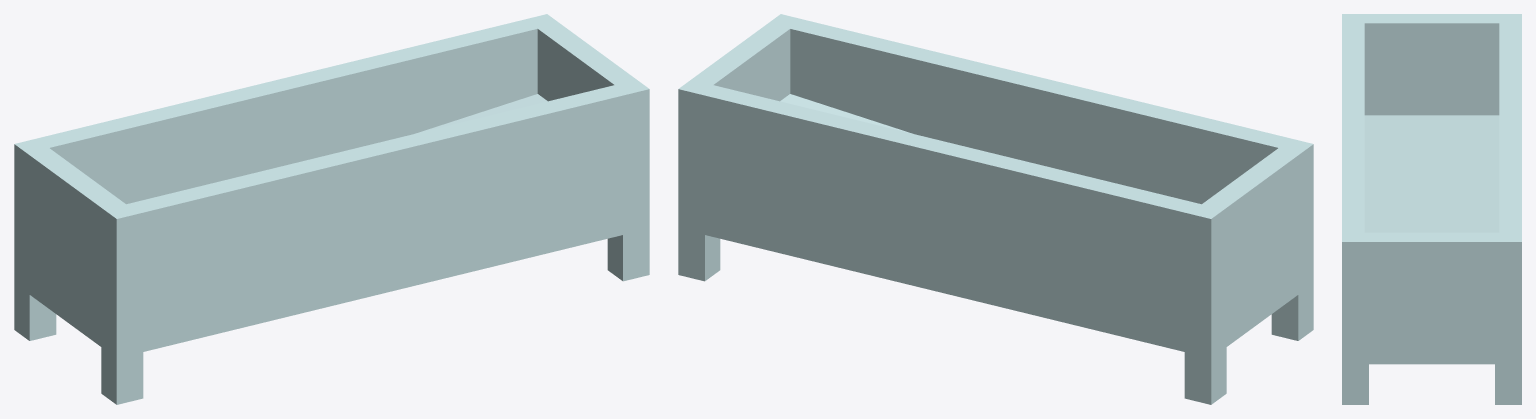
The model's file is tinker.fbx.
The picture shows the model from 3 angles, left to right: view 1: azimuth 30°, elevation 25°; view 2: azimuth 150°, elevation 25°; view 3: azimuth 270°, elevation 25°; orthographic projection. The views are drawn at different scales.
Visible parts, largest first — view 1: imagetostl_mesh0; view 2: imagetostl_mesh0; view 3: imagetostl_mesh0.
Part boxes in pixels (box(x1,y1,x2,y2)): imagetostl_mesh0: box(14, 14, 649, 404); imagetostl_mesh0: box(678, 14, 1313, 404); imagetostl_mesh0: box(1342, 14, 1521, 404).
Size of the model in its own units: 12000 by 4000 by 4000.
